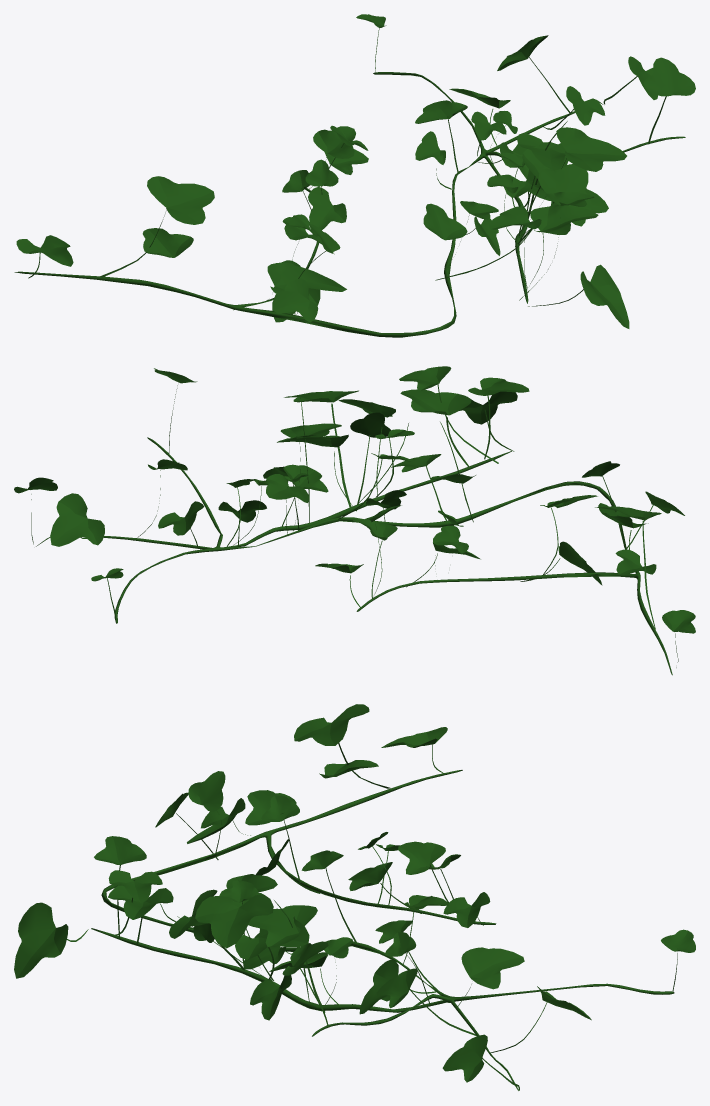
Rendered from Rockplain clover creeper.fbx.
3 renders of one model, top to bottom at view 1: azimuth 30°, elevation 25°; view 2: azimuth 150°, elevation 25°; view 3: azimuth 270°, elevation 25°, orthographic. The views are drawn at different scales.
Parts seen in each view (by area): view 1: GS Rockplain clover creeper 01.001; view 2: GS Rockplain clover creeper 01.001; view 3: GS Rockplain clover creeper 01.001.
Part boxes in pixels (x1,y1,x2,y2): GS Rockplain clover creeper 01.001: [14, 14, 695, 337]; GS Rockplain clover creeper 01.001: [14, 366, 695, 675]; GS Rockplain clover creeper 01.001: [14, 704, 695, 1090].
Size of the model in its own units: 0.7814 by 0.1565 by 0.6565.
